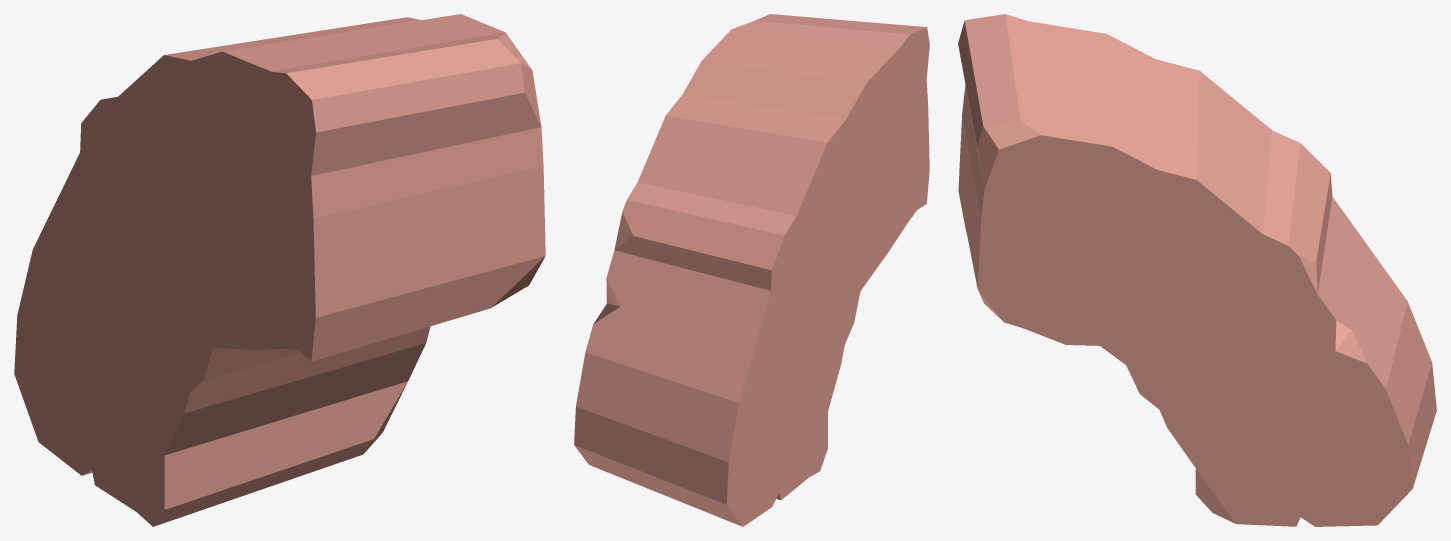
Rendered from SuperGrid_RingQuarter_012_Vlad.fbx.
3 views of the same model, side by side, from view 1: azimuth 30°, elevation 25°; view 2: azimuth 150°, elevation 25°; view 3: azimuth 270°, elevation 25° (orthographic). The views are drawn at different scales.
Parts seen in each view (by area): view 1: SuperGrid_RingQuarter.012; view 2: SuperGrid_RingQuarter.012; view 3: SuperGrid_RingQuarter.012.
Boxes of the visible parts, x1,y1,x2,y2 form: SuperGrid_RingQuarter.012: [14, 14, 545, 526]; SuperGrid_RingQuarter.012: [574, 14, 929, 526]; SuperGrid_RingQuarter.012: [958, 14, 1436, 526].
Bounding box in the file's own units: 10000 × 21801 × 21596.
